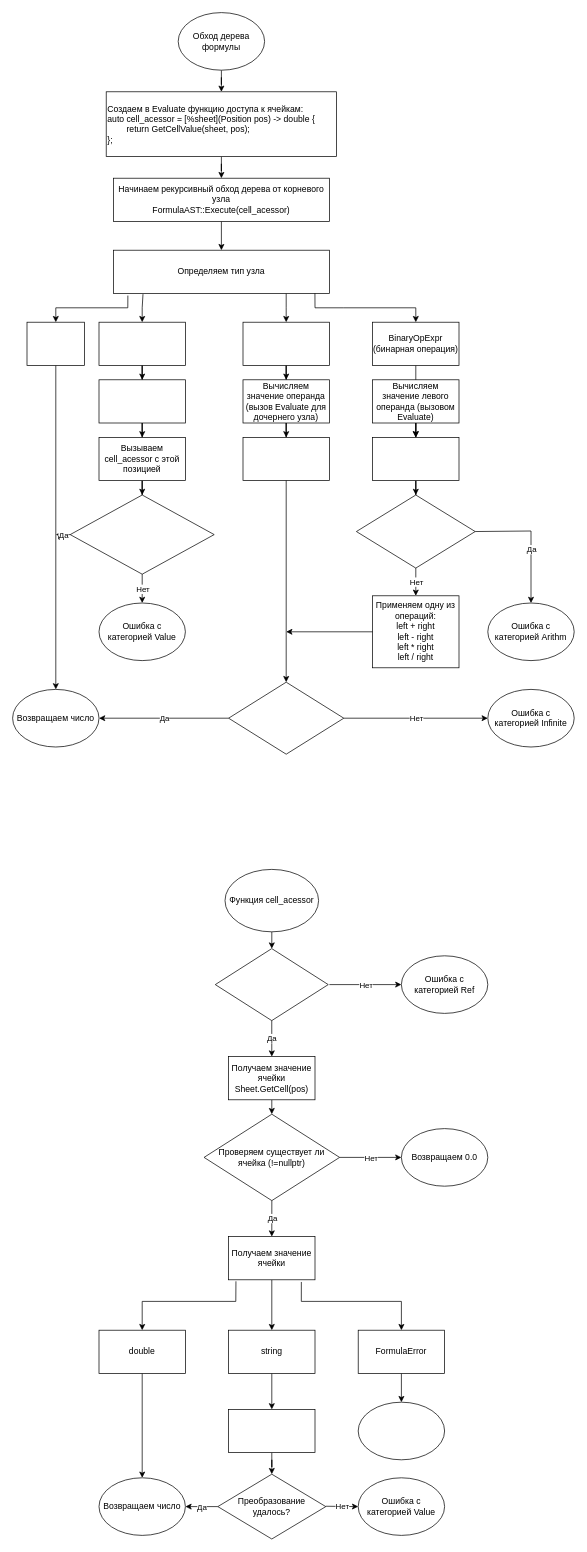
Image size: 587x1552. Some labels were removed from this diagram. Each missing label, with the centre of its shape:
CellExpr (ссылка на ячейку): point (141, 343)
NumberExpr (число): point (55, 343)
UnaryOpExpr (унарная операция): point (285, 343)
Вычисляем значение правого операнда (вызовом Evaluate): point (415, 459)
Если операция /: проверяем right == 0: point (415, 531)
Можно ли интерпретировать значение в ячейке как число?: point (141, 534)
Ошибка пробрасывается дальше: point (401, 1430)
Получаем позицию pos этой ячейки: point (141, 401)
Применяем одну из операций: +operand -operand: point (285, 459)
Проверяем std::isfinite: point (286, 717)
Проверяем валидность позиции pos.IsValid(): point (271, 984)
Пытаемся преобразовать строку в число: point (271, 1431)
